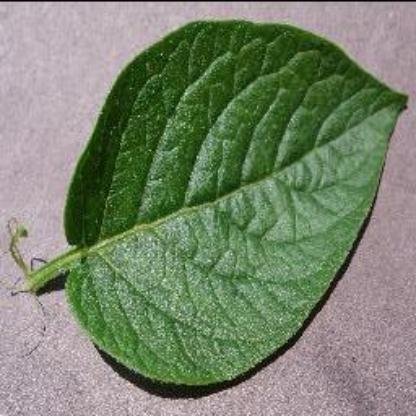Healthy-plant: (47, 14, 413, 388)
